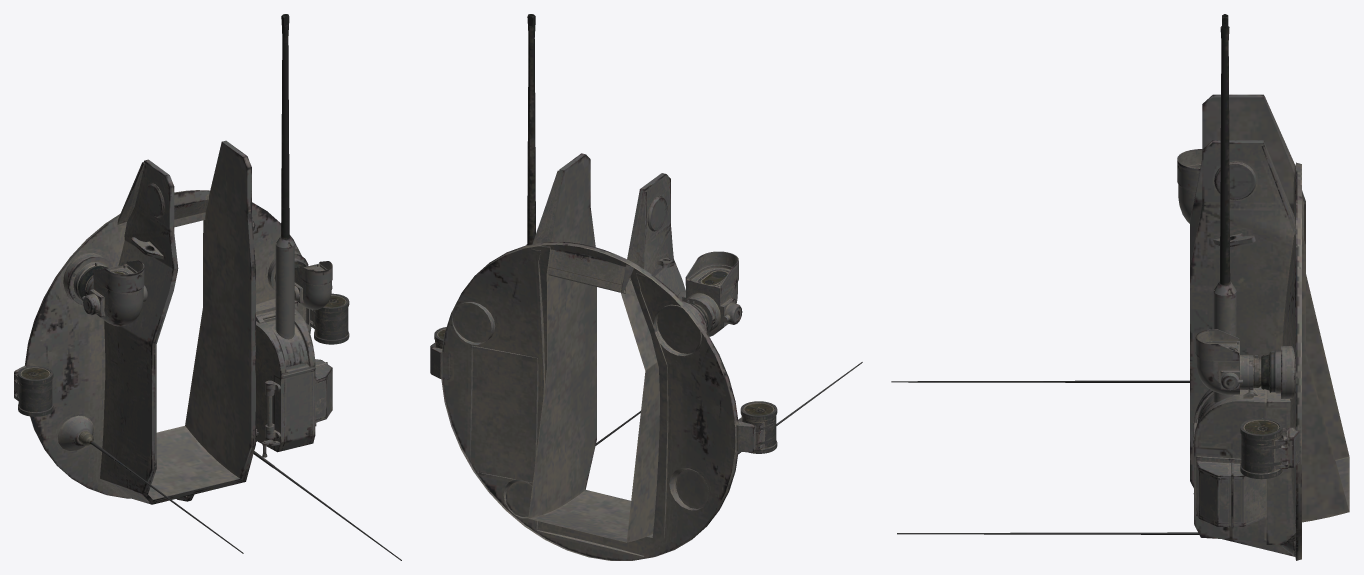
The model's file is Turret_01.glb.
3 views of the same model, side by side, from view 1: azimuth 30°, elevation 25°; view 2: azimuth 150°, elevation 25°; view 3: azimuth 270°, elevation 25° (orthographic). The views are drawn at different scales.
Visible parts, largest first — view 1: set_0_group_0; view 2: set_0_group_0; view 3: set_0_group_0.
Part boxes in pixels (x1,y1,x2,y2): set_0_group_0: [14, 14, 401, 560]; set_0_group_0: [430, 14, 862, 560]; set_0_group_0: [891, 14, 1349, 560].
Bounding box in the file's own units: 2.19 × 3.07 × 2.21.
1 material, 1 textured.
